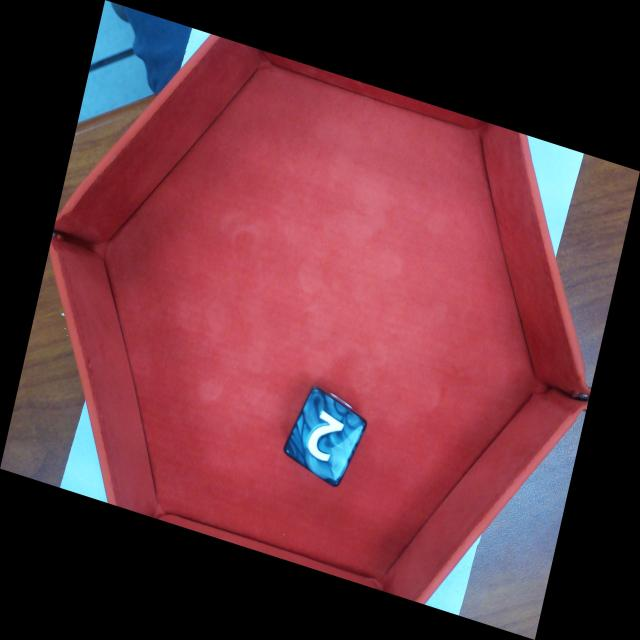dice: (283, 386, 370, 488)
